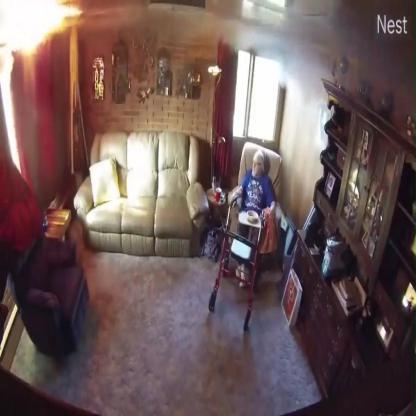fire: (1, 1, 84, 55)
